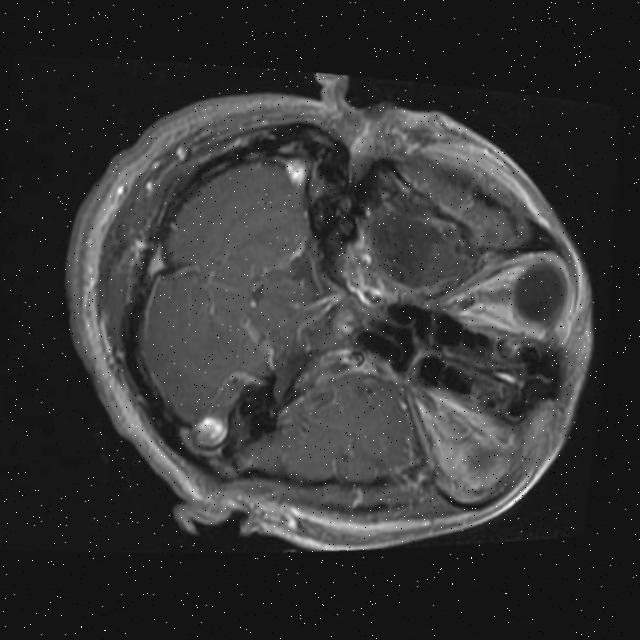Glioma: (354, 209, 476, 297)
